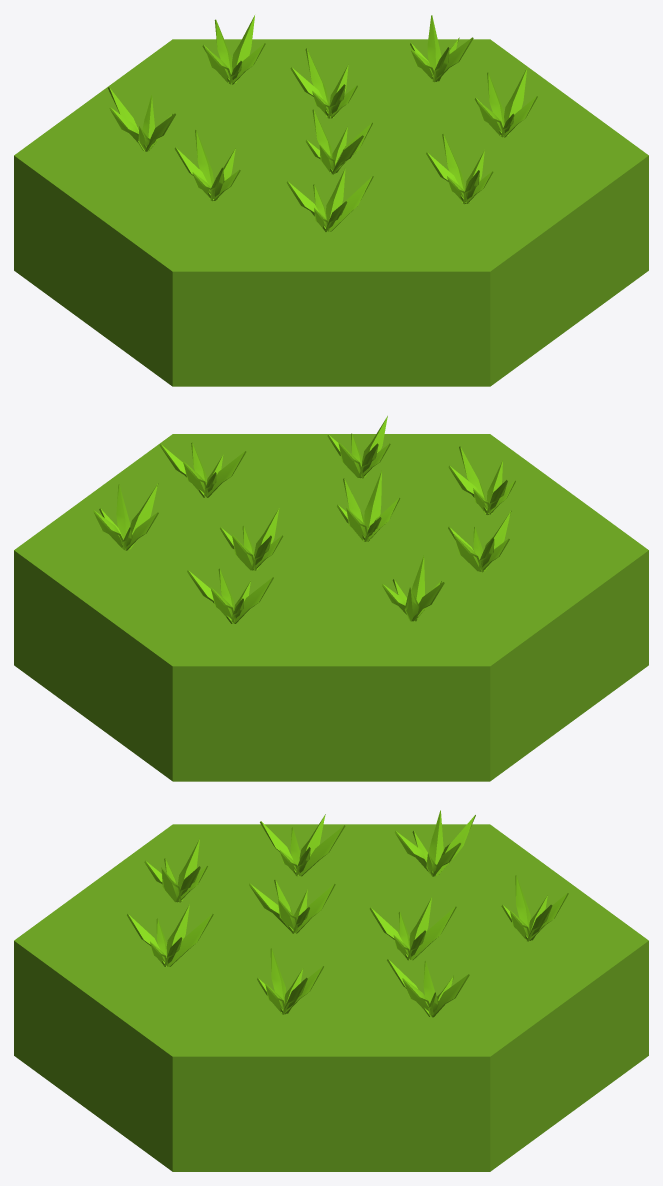
The model's file is Sabana_hierva_Hex.fbx.
3 renders of one model, top to bottom at view 1: azimuth 30°, elevation 25°; view 2: azimuth 150°, elevation 25°; view 3: azimuth 270°, elevation 25°, orthographic.
Visible parts, largest first — view 1: Sabana_Hierva; view 2: Sabana_Hierva; view 3: Sabana_Hierva.
Part boxes in pixels (x1,y1,x2,y2): Sabana_Hierva: (14,15,648,386); Sabana_Hierva: (14,416,648,781); Sabana_Hierva: (14,810,648,1171).
Bounding box in the file's own units: 86.6 × 29.15 × 100.
Materials: 1 (1 with a texture image).
